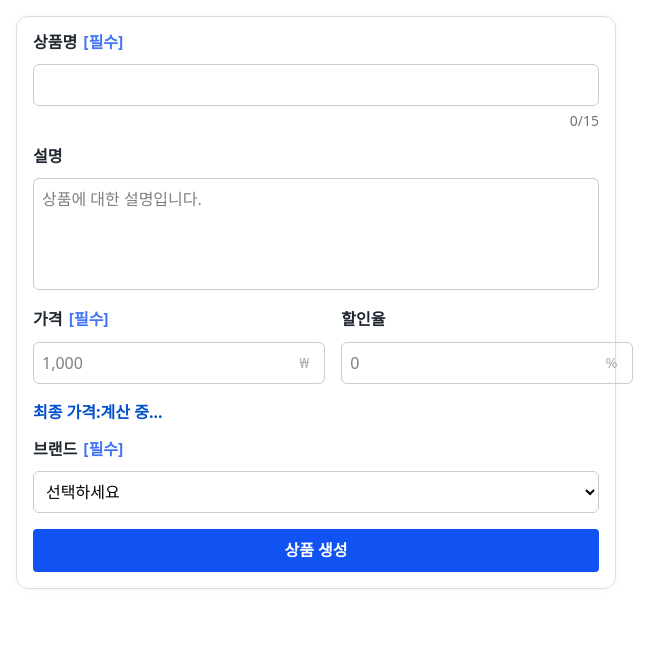
ProductForm 유효성 검사 › 가격은 1000원 이상
In the field labelled "가격 [필수]": (179, 363) [33,342,325,384], type "999"
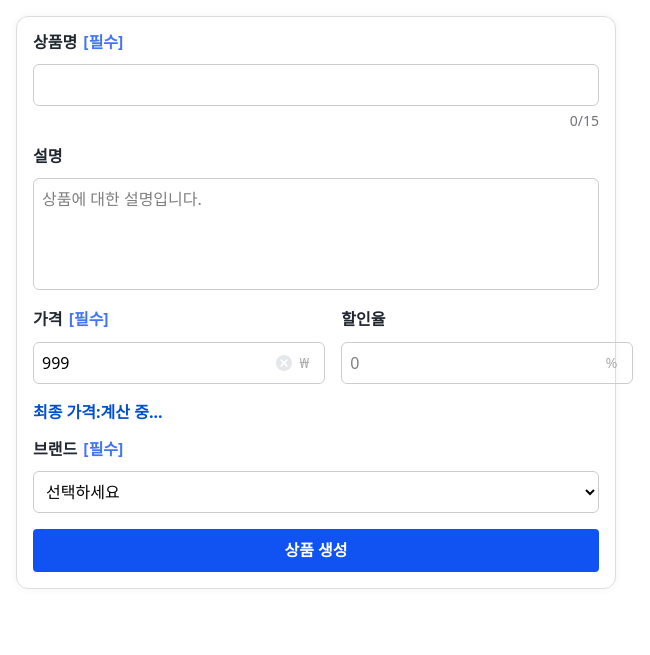
Click the button "상품 생성": (316, 550) [33,529,599,572]
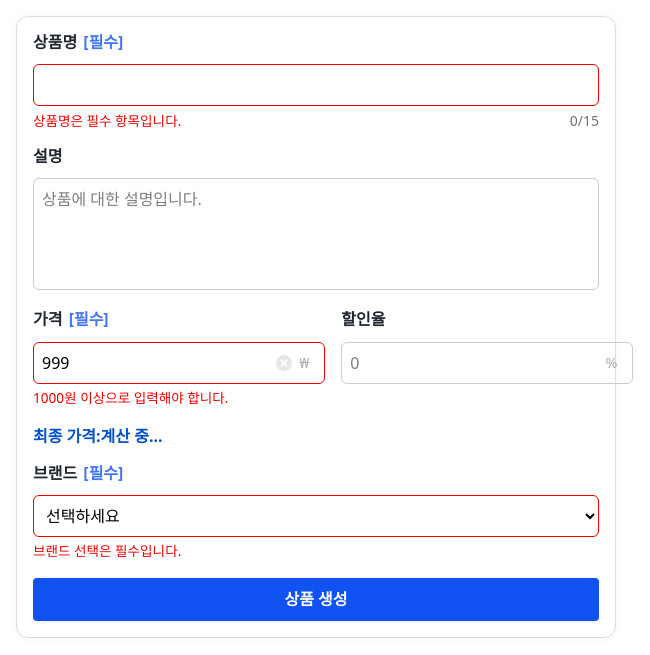
Check: the text "1000원 이상으로 입력해야 합니다." is shown, box [33,388,228,407]
